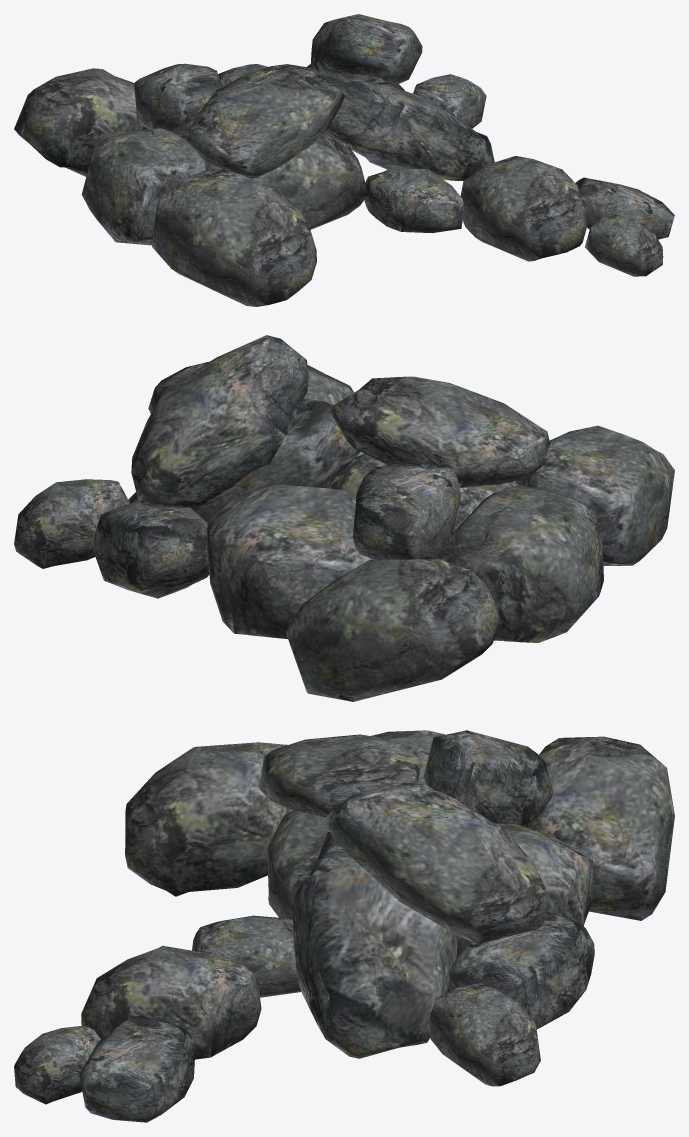
The model's file is rockcluster01.glb.
3 renders of one model, top to bottom at view 1: azimuth 30°, elevation 25°; view 2: azimuth 150°, elevation 25°; view 3: azimuth 270°, elevation 25°, orthographic. The views are drawn at different scales.
Parts seen in each view (by area): view 1: 0_Rocks02; view 2: 0_Rocks02; view 3: 0_Rocks02.
Part boxes in pixels (bbox=[...]): 0_Rocks02: bbox=[14, 14, 674, 306]; 0_Rocks02: bbox=[14, 335, 674, 701]; 0_Rocks02: bbox=[14, 730, 674, 1122].
Size of the model in its own units: 16.48 by 6.09 by 16.27.
1 material, 1 textured.
